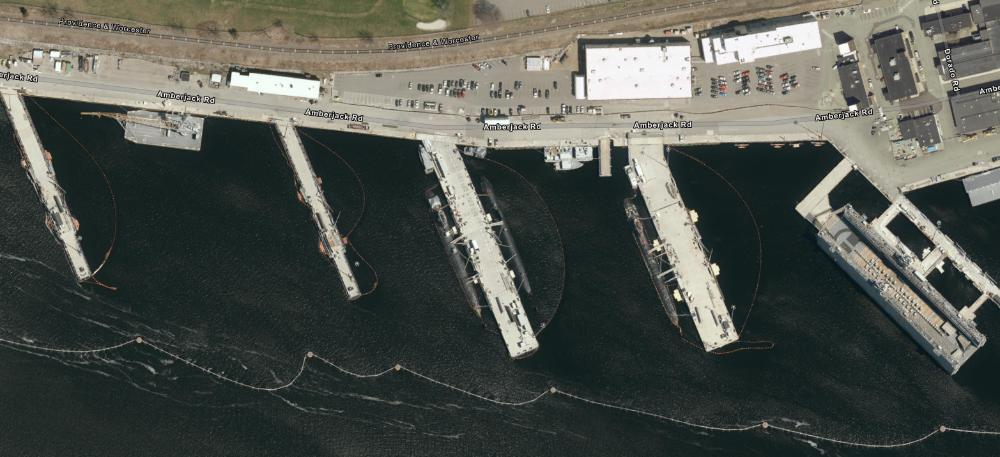submarine: (620, 197, 691, 341), (418, 186, 488, 322), (474, 171, 539, 300)
